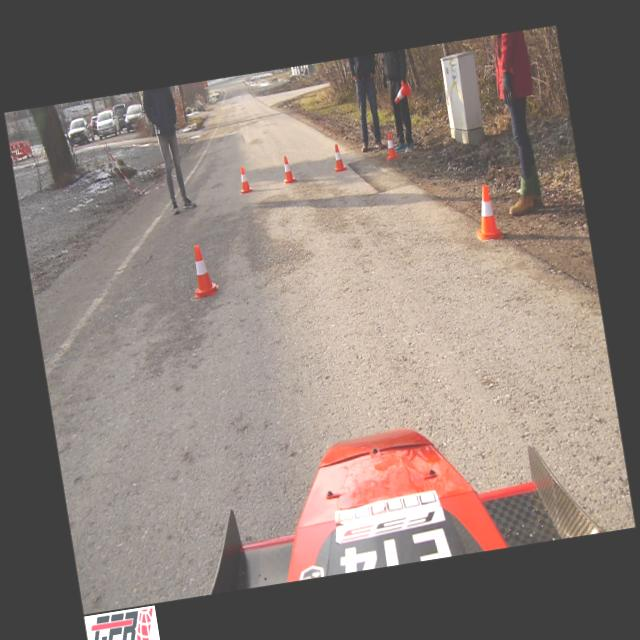orange_cone: (470, 184, 504, 242), (186, 243, 220, 298), (330, 144, 348, 172), (383, 130, 399, 160), (392, 80, 412, 104), (237, 165, 253, 194), (280, 155, 296, 184)
